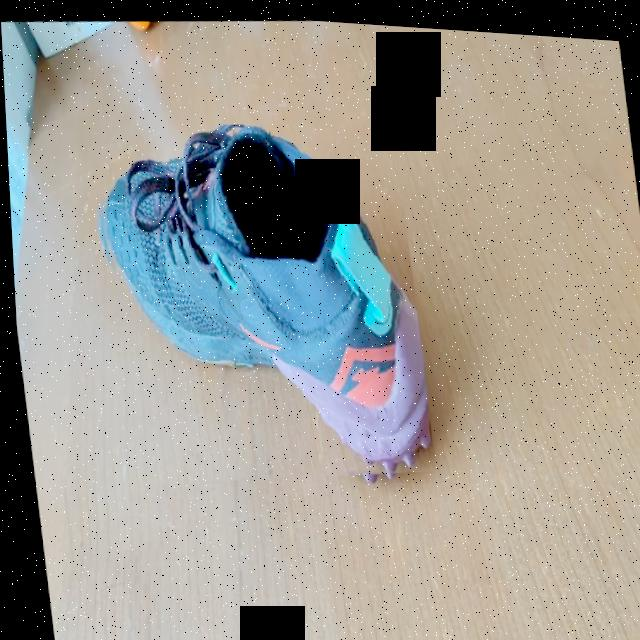shoe: (82, 102, 433, 499)
